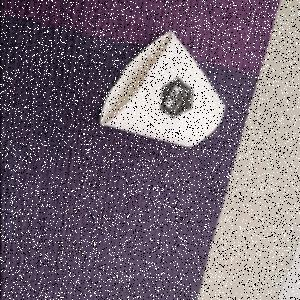Cup: (98, 31, 226, 149)
